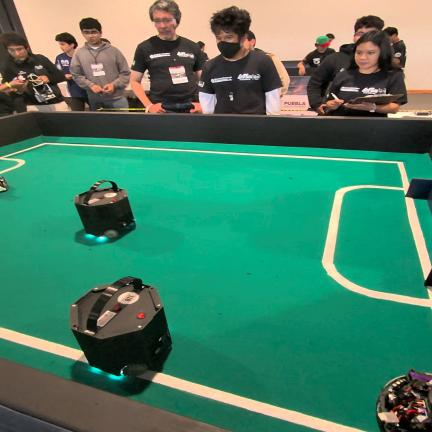cancha: (0, 131, 432, 432)
limites: (88, 144, 432, 310), (138, 371, 364, 432), (0, 328, 87, 363), (0, 142, 87, 174), (405, 197, 432, 277)
porteria: (406, 178, 432, 214), (425, 270, 432, 285)
robot: (70, 276, 172, 376), (74, 180, 136, 239), (376, 369, 432, 432), (0, 176, 9, 193)
